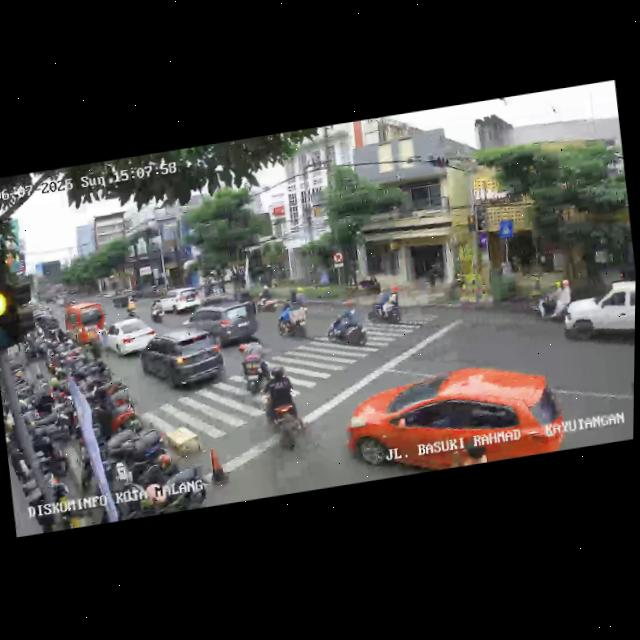car: (341, 353, 568, 484), (137, 323, 230, 396), (554, 273, 636, 354), (179, 294, 265, 353), (100, 314, 157, 362), (61, 298, 106, 348), (149, 284, 205, 320), (620, 339, 635, 416)
motorcycle: (256, 365, 309, 454), (323, 301, 377, 358), (235, 331, 276, 399), (529, 272, 576, 325), (274, 294, 312, 344), (370, 284, 403, 328), (258, 284, 278, 313), (147, 297, 165, 322), (122, 294, 136, 317)
